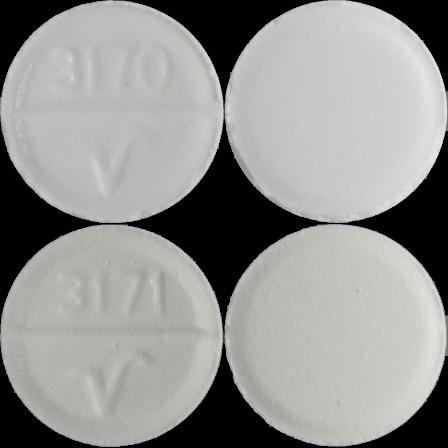0603-3740: (0, 0, 224, 224)
